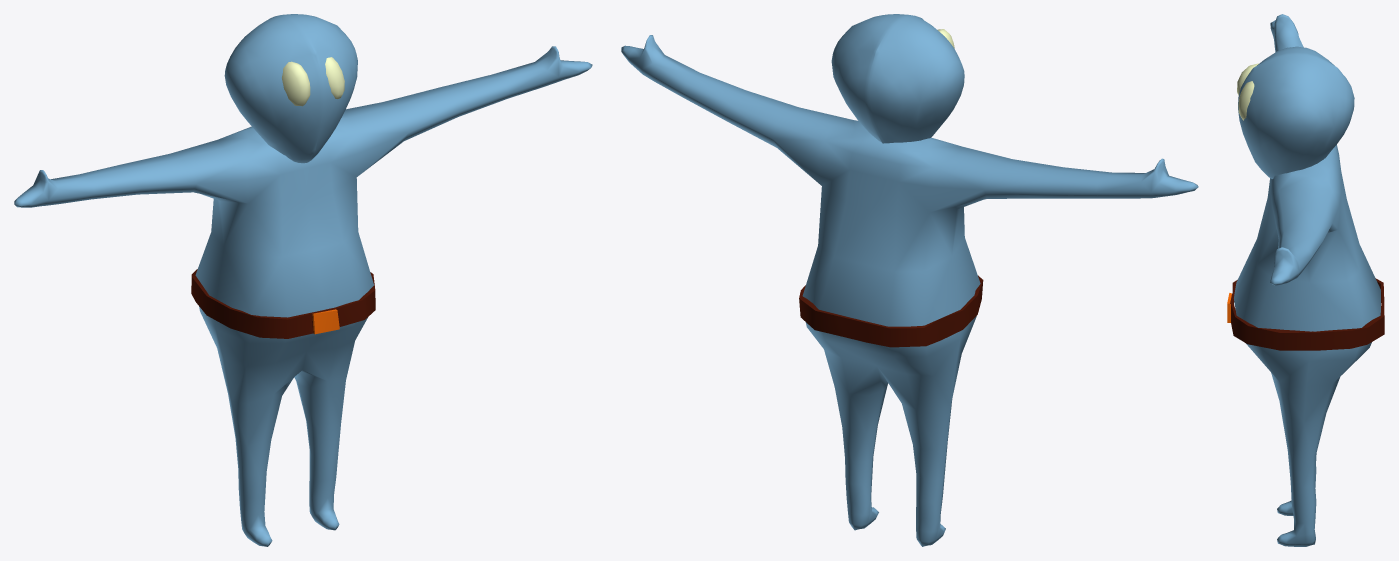
The model's file is glad_gubbe1 (1).FBX.
3 views of the same model, side by side, from view 1: azimuth 30°, elevation 25°; view 2: azimuth 150°, elevation 25°; view 3: azimuth 270°, elevation 25° (orthographic). The views are drawn at different scales.
Parts seen in each view (by area): view 1: Box001, Cylinder002, Sphere001; view 2: Box001, Cylinder002; view 3: Box001, Cylinder002, Sphere002.
Part boxes in pixels (x1,y1,x2,y2): Box001: (14,14,592,546); Cylinder002: (191,269,375,338); Sphere001: (282,61,310,106); Box001: (621,14,1198,546); Cylinder002: (799,275,983,347); Box001: (1234,14,1380,546); Cylinder002: (1227,278,1384,350); Sphere002: (1238,81,1254,120).
Bounding box in the file's own units: 52.28 × 44.47 × 13.3.
